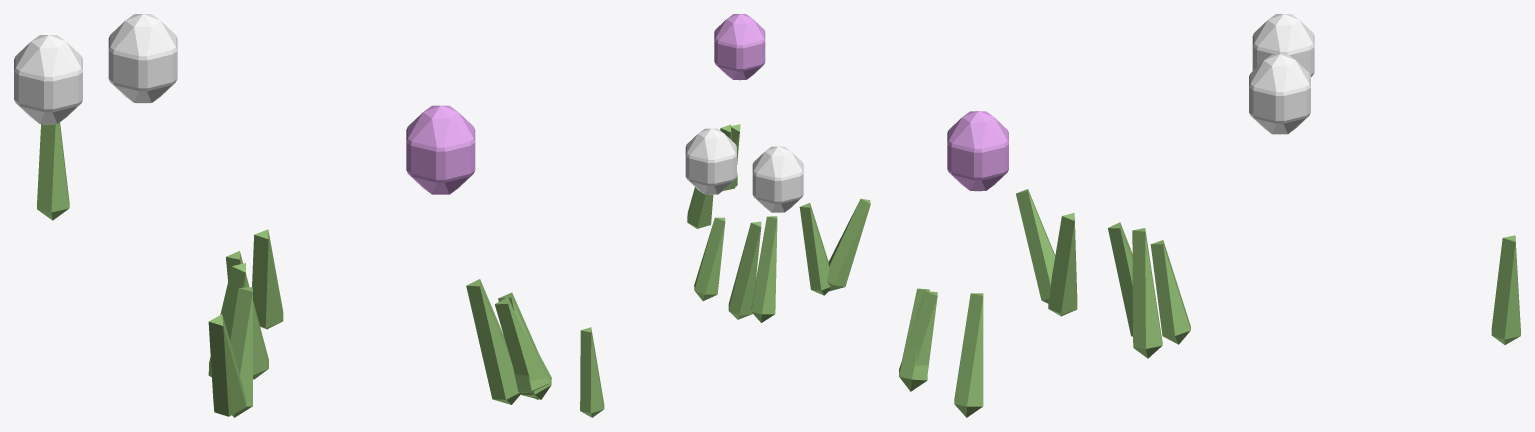
File: grass_tuft.glb
3 renders of one model, left to right at view 1: azimuth 30°, elevation 25°; view 2: azimuth 150°, elevation 25°; view 3: azimuth 270°, elevation 25°, orthographic. The views are drawn at different scales.
Parts seen in each view (by area): view 1: grass_tuft; view 2: grass_tuft; view 3: grass_tuft.
Boxes of the visible parts, x1,y1,x2,y2 form: grass_tuft: [14, 14, 551, 417]; grass_tuft: [580, 14, 870, 417]; grass_tuft: [899, 14, 1520, 417].
Bounding box in the file's own units: 0.2326 × 0.2157 × 0.4221.
